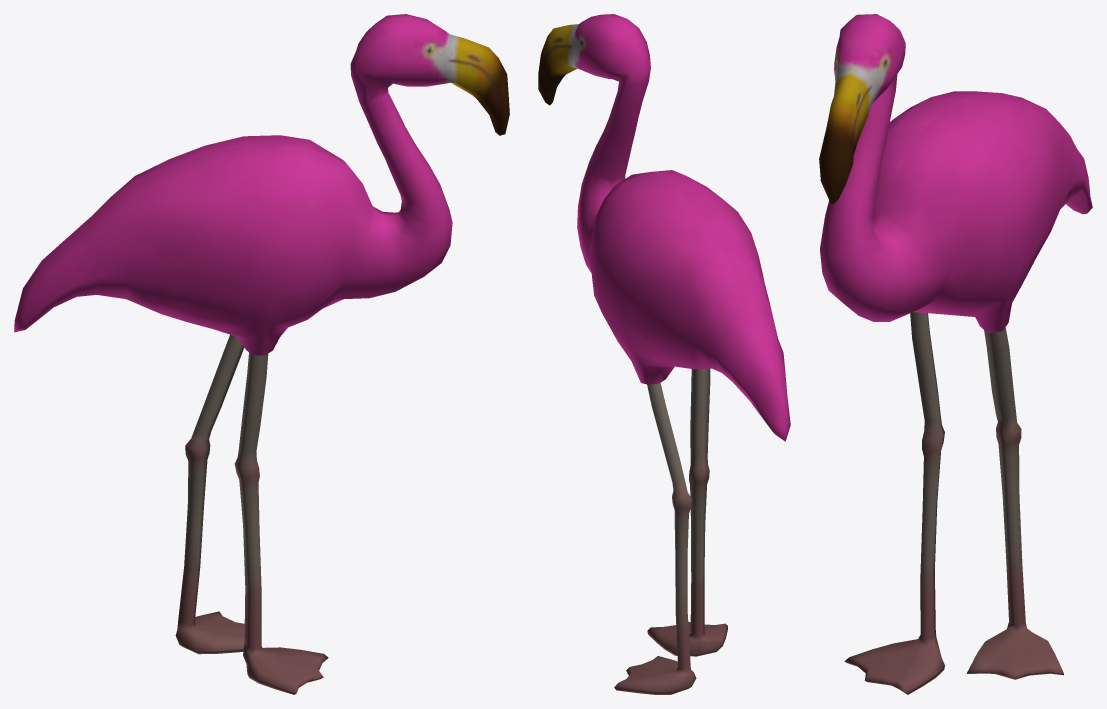
The picture shows the model from 3 angles, left to right: view 1: azimuth 30°, elevation 25°; view 2: azimuth 150°, elevation 25°; view 3: azimuth 270°, elevation 25°; orthographic projection. The views are drawn at different scales.
Size of the model in its own units: 9.18 by 14.84 by 5.2.
1 material, 1 textured.
